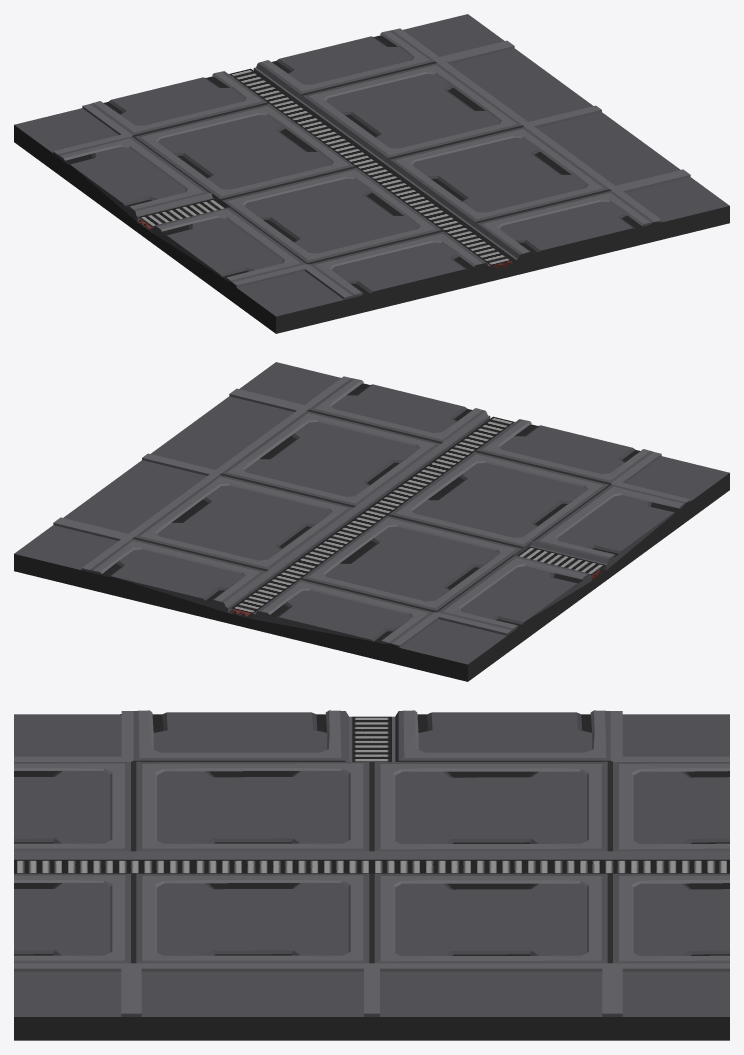
File: SM_Bld_Floor_06.fbx
3 renders of one model, top to bottom at view 1: azimuth 30°, elevation 25°; view 2: azimuth 150°, elevation 25°; view 3: azimuth 270°, elevation 25°, orthographic. The views are drawn at different scales.
Parts seen in each view (by area): view 1: SM_Bld_Floor_06_LOD0; view 2: SM_Bld_Floor_06_LOD0; view 3: SM_Bld_Floor_06_LOD0.
Boxes of the visible parts, x1=… form: SM_Bld_Floor_06_LOD0: x1=14, y1=14, x2=729, y2=333; SM_Bld_Floor_06_LOD0: x1=14, y1=362, x2=729, y2=681; SM_Bld_Floor_06_LOD0: x1=14, y1=710, x2=729, y2=1040.
Size of the model in its own units: 500 by 500 by 21.2.
Materials: 1 (1 with a texture image).
